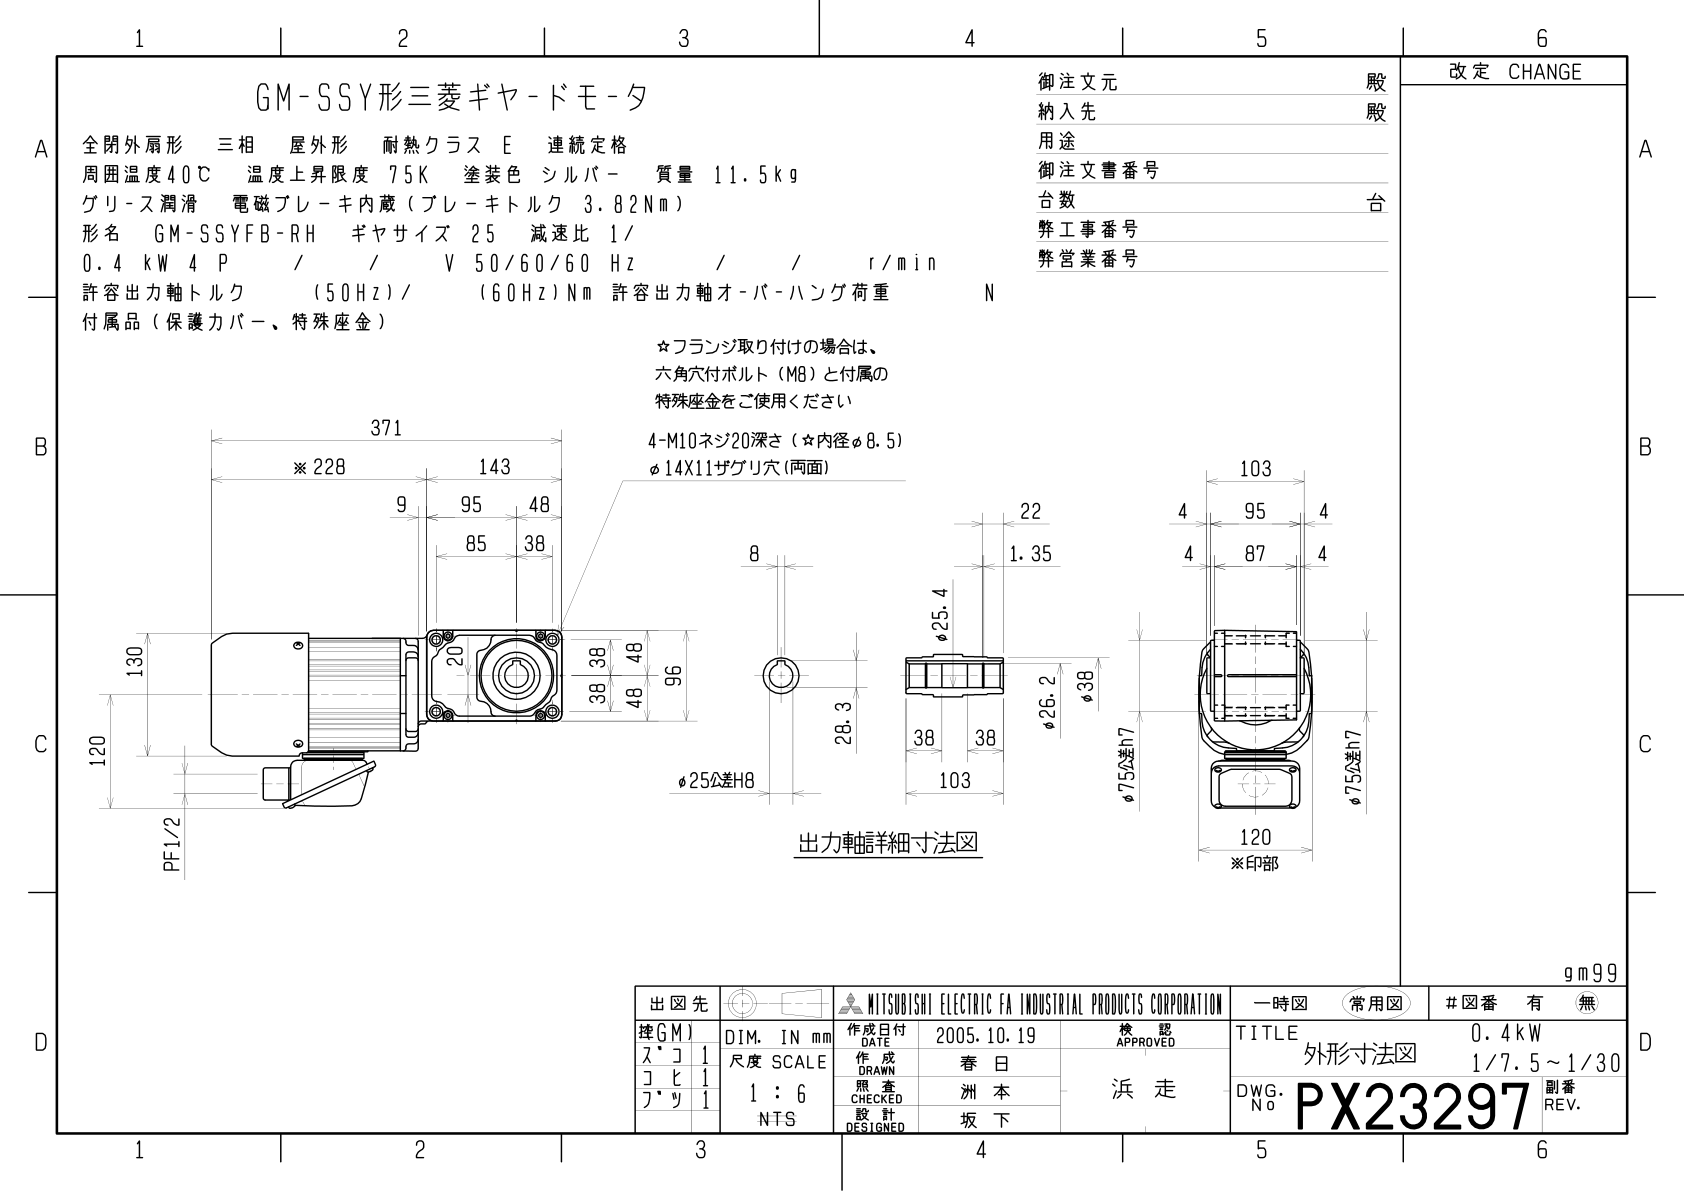GM_SSY_インバータ屋外_三相: (75, 353, 1393, 944)
